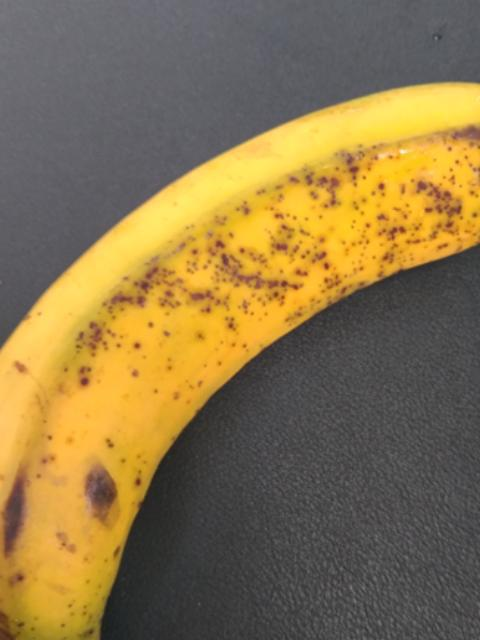ripe: (7, 72, 479, 639)
